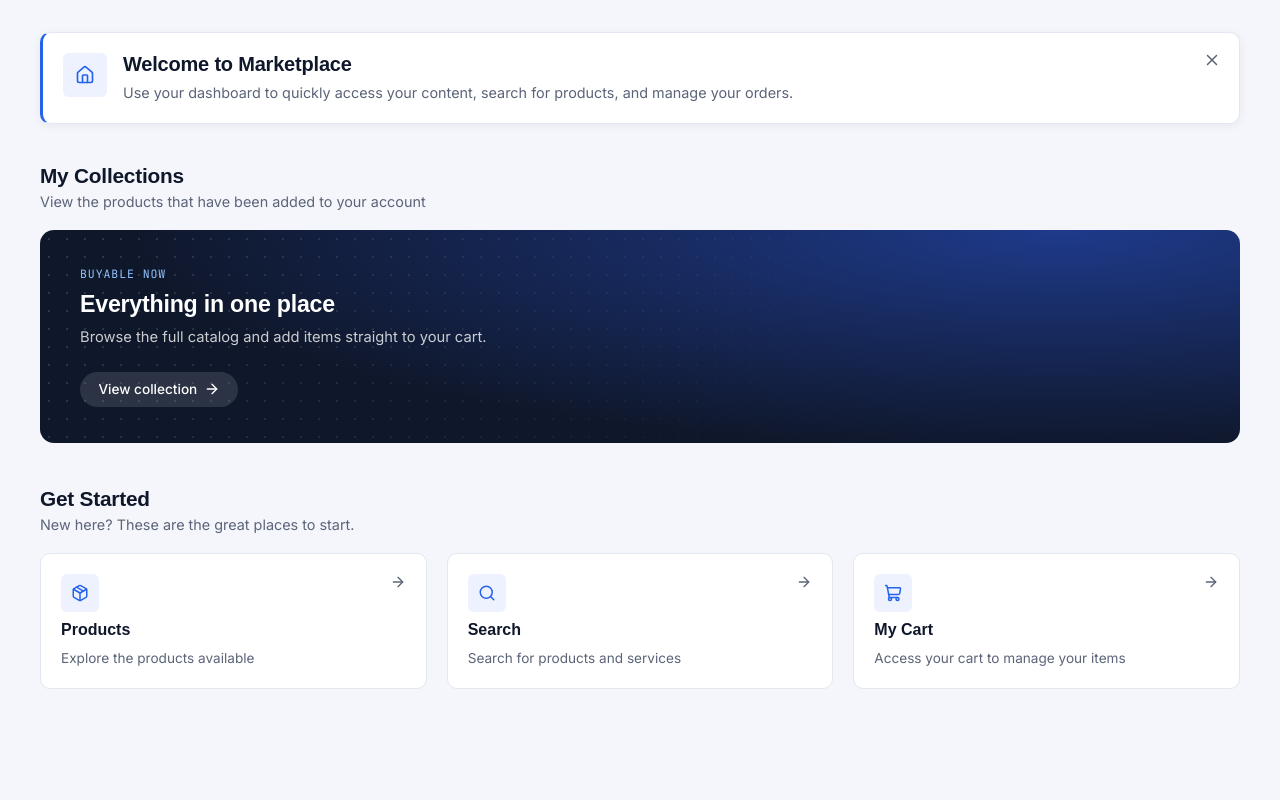
Test: Home page › dismisses the welcome banner
This screenshot has width=1280, height=800.
Expected: the heading "Welcome to Marketplace" is shown, [123,53,352,75]
Click the button named "Dismiss welcome banner". click: (1212, 60)
box: [1198,45,1227,74]
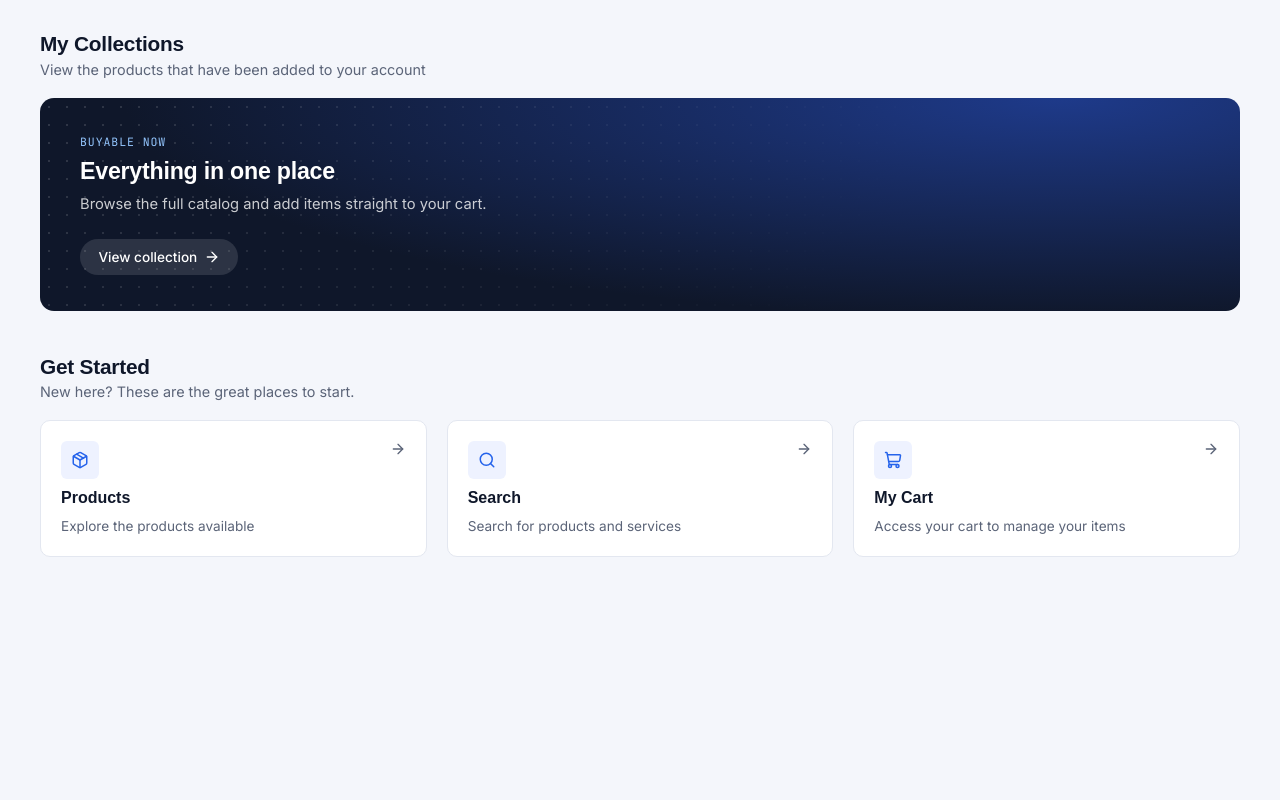
Expected: the heading "Welcome to Marketplace" is gone
